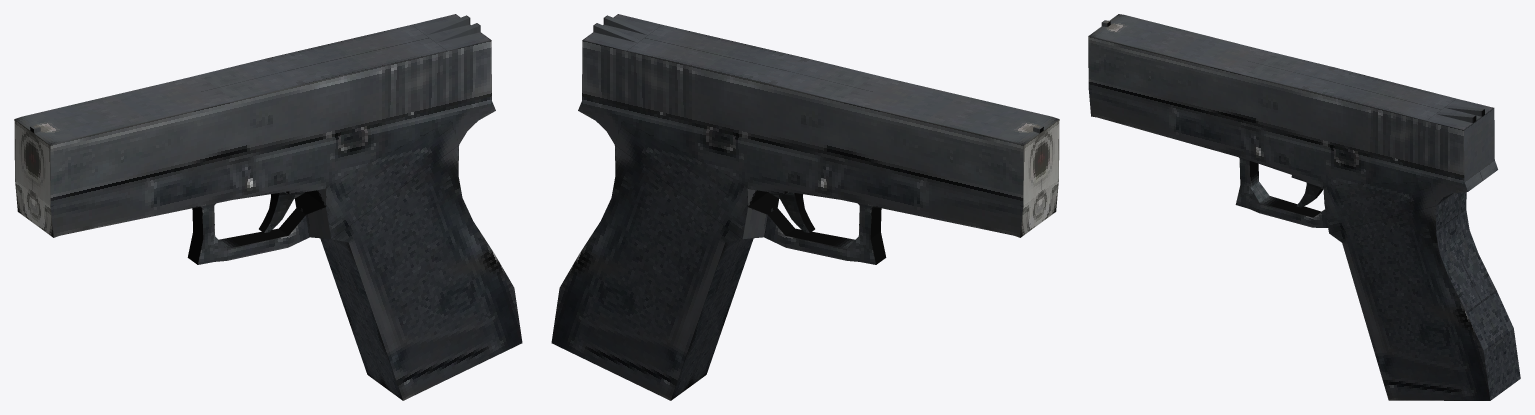
The model's file is Glock.glb.
The picture shows the model from 3 angles, left to right: view 1: azimuth 30°, elevation 25°; view 2: azimuth 150°, elevation 25°; view 3: azimuth 330°, elevation 25°; orthographic projection. The views are drawn at different scales.
Visible parts, largest first — view 1: Grip, Top; view 2: Grip, Top; view 3: Grip, Top.
Part boxes in pixels (bbox=[...]): Grip: bbox=[15, 101, 522, 400]; Top: bbox=[14, 14, 491, 205]; Grip: bbox=[551, 101, 1058, 400]; Top: bbox=[582, 14, 1059, 205]; Grip: bbox=[1088, 88, 1520, 400]; Top: bbox=[1088, 14, 1494, 182].
Size of the model in its own units: 2.24 by 1.57 by 0.2935.
1 material, 1 textured.
